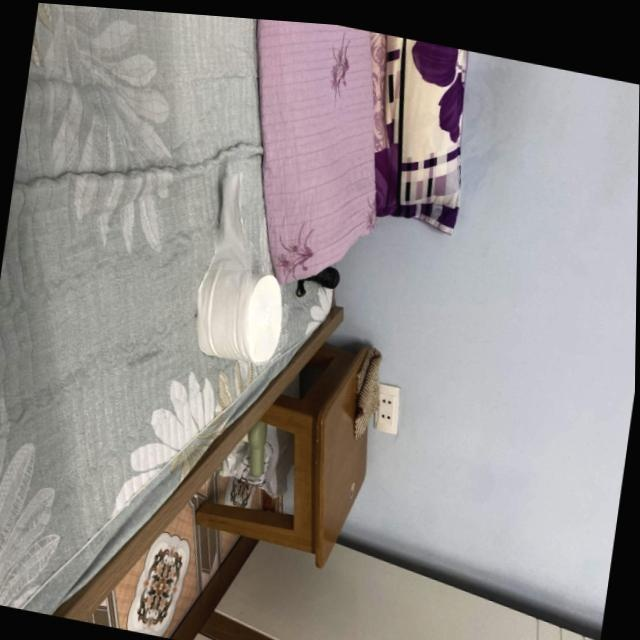outlet: (370, 380, 403, 435)
